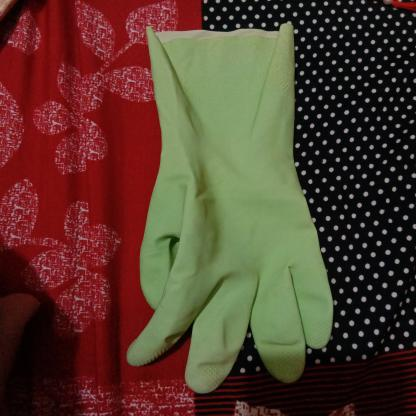gloved_hand: (121, 18, 340, 397)
